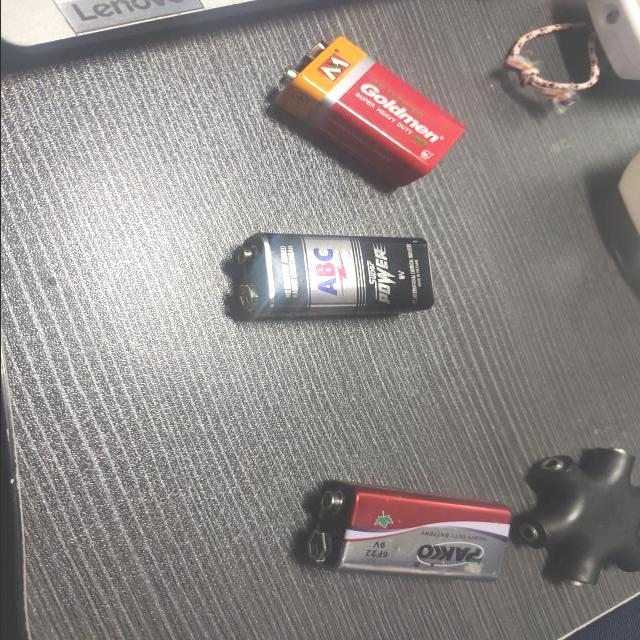9V: (264, 26, 468, 198), (283, 460, 527, 600), (220, 222, 442, 338)
